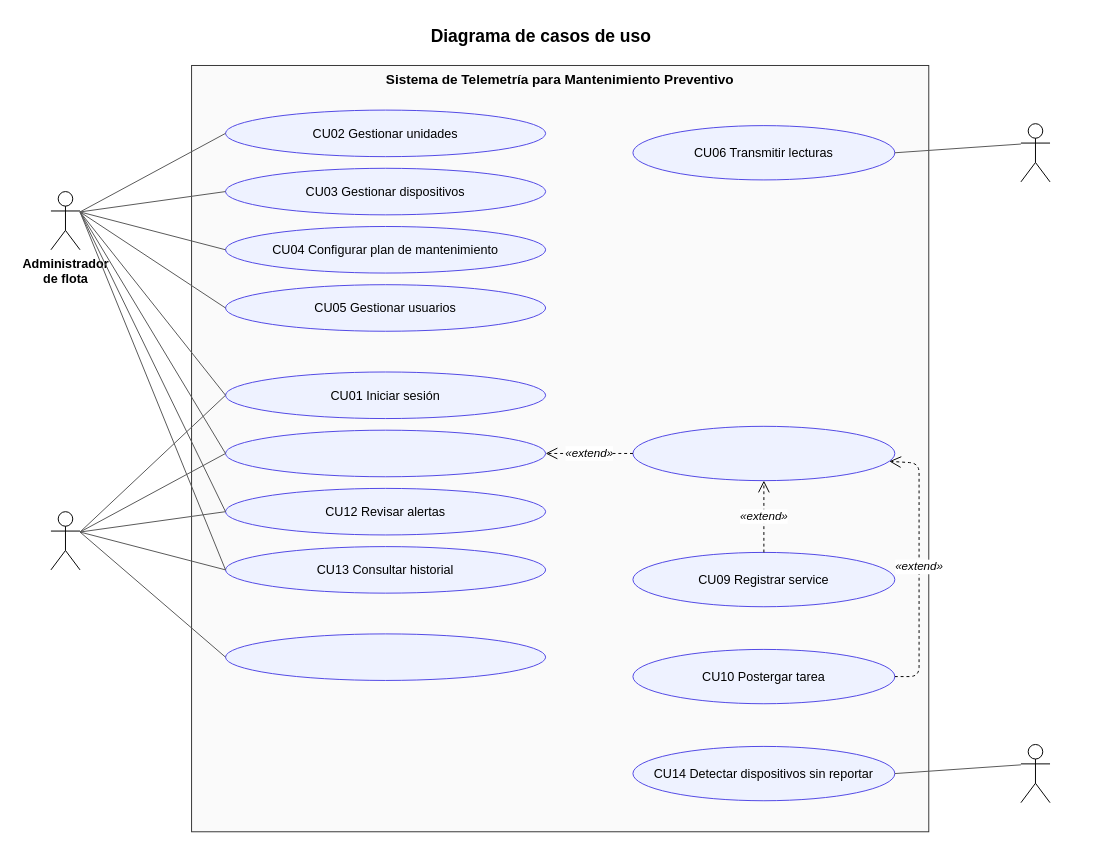
Image size: 1093x856. Some labels were removed from this diagram. The box of each missing label's shape, as (x1, y1, x2, y2) in pixels:
CU07 Consultar estado de la flota: (225, 429, 546, 477)
CU08 Consultar detalle de unidad: (632, 425, 895, 481)
CU11 Cargar kilometraje manual: (225, 633, 546, 680)
Dispositivo telemétrico: (1020, 123, 1050, 182)
Responsable de mantenimiento: (50, 511, 80, 570)
Temporizador del sistema: (1020, 744, 1050, 803)
